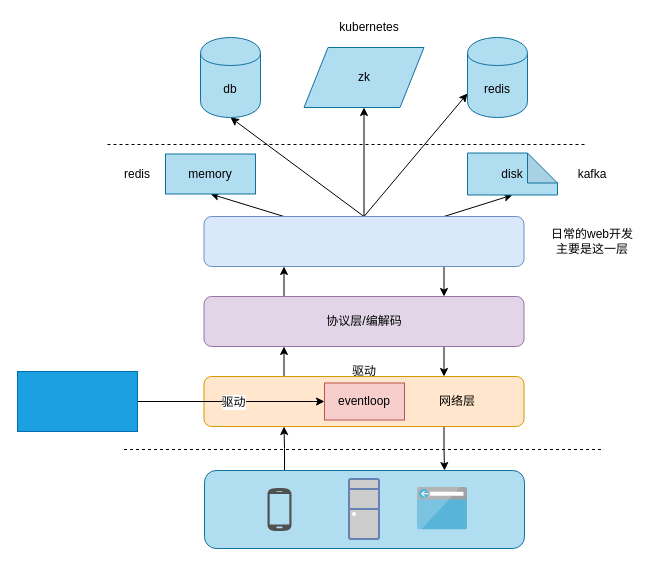
Some shapes in this 655 by 566 pixel diagram are drawn without their labels. The shapes that lost their labels are listed below. From the top down, each one's centre as x and y in pixels, then its label:
At [363,241]: "业务层".
At [77,401]: "线程池".
